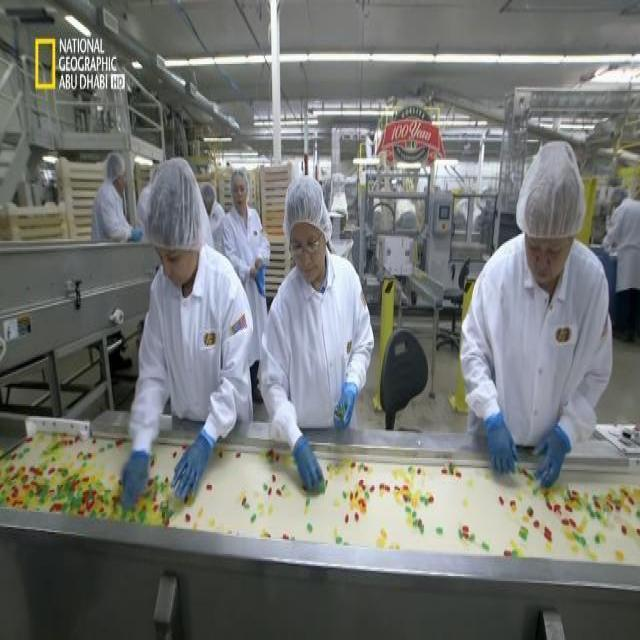gloved_hand: (474, 399, 521, 492), (529, 408, 573, 502), (170, 421, 216, 499), (113, 440, 152, 505), (327, 374, 365, 438), (295, 429, 326, 505), (124, 219, 144, 244)
